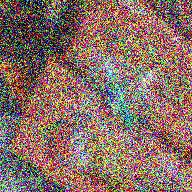러키펜정: (103, 62, 116, 81)
씨엠지세파클러캡슐: (104, 85, 120, 115)
에르도캡슐: (118, 98, 135, 130)
휴티렌정: (110, 77, 126, 100)
